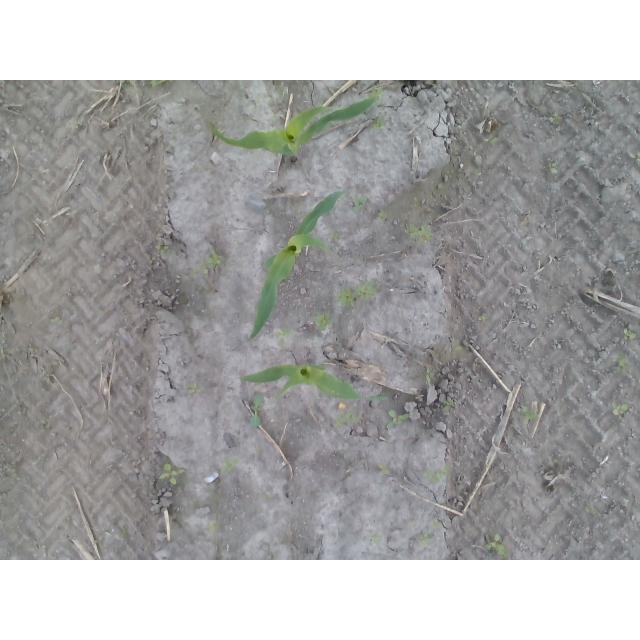Maize: (247, 189, 344, 342), (208, 94, 380, 162), (239, 365, 389, 404)
Weeds: (338, 280, 379, 304), (191, 248, 221, 280), (482, 532, 510, 560), (159, 461, 185, 487), (405, 220, 434, 241), (387, 407, 409, 430), (334, 411, 360, 429), (249, 396, 263, 429), (611, 350, 629, 374), (220, 455, 241, 475), (424, 468, 448, 485), (313, 311, 331, 330), (611, 401, 631, 417), (5, 461, 19, 482), (416, 531, 433, 547), (371, 111, 386, 129), (521, 405, 537, 421), (207, 518, 222, 535), (439, 398, 457, 410), (352, 193, 366, 208), (546, 161, 560, 175), (623, 326, 637, 340), (379, 464, 392, 477), (626, 150, 640, 162), (155, 240, 169, 252), (424, 367, 433, 385), (550, 111, 561, 125), (374, 209, 386, 221), (68, 118, 80, 130), (276, 327, 290, 337), (149, 81, 168, 88), (188, 383, 200, 394), (39, 417, 49, 430), (371, 535, 382, 546), (92, 535, 103, 546), (49, 318, 64, 326), (51, 89, 66, 97), (630, 376, 640, 388), (584, 502, 593, 514), (327, 231, 337, 241), (487, 136, 498, 145), (431, 520, 441, 529), (0, 336, 8, 347), (478, 315, 486, 322), (112, 80, 120, 86), (303, 94, 310, 100)
